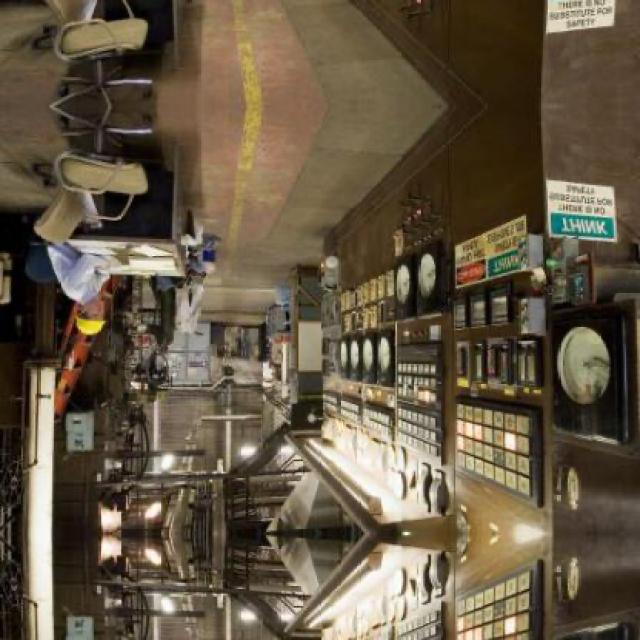con casco: (54, 279, 119, 350)
